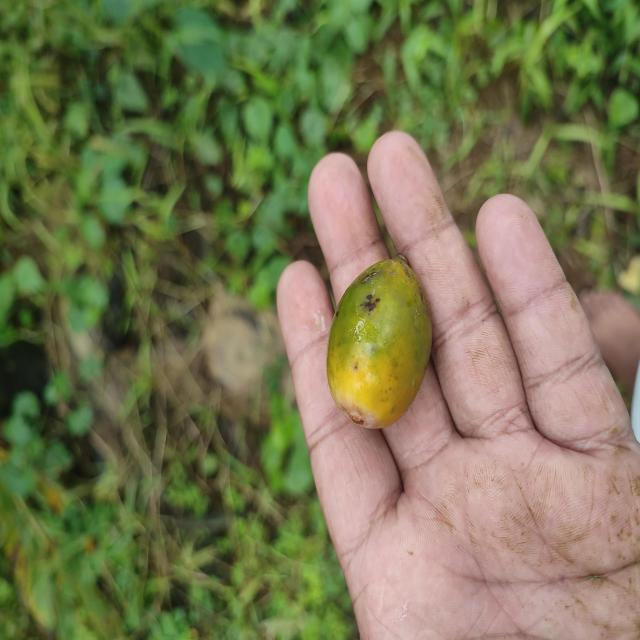good: (325, 259, 434, 431)
